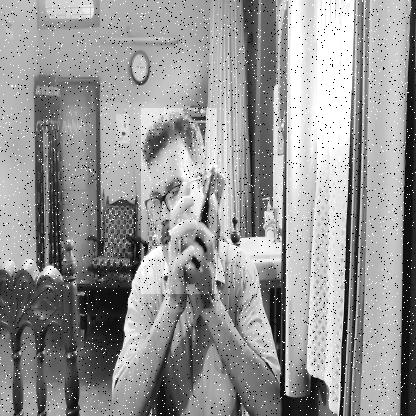Distracted: (142, 108, 218, 294)
